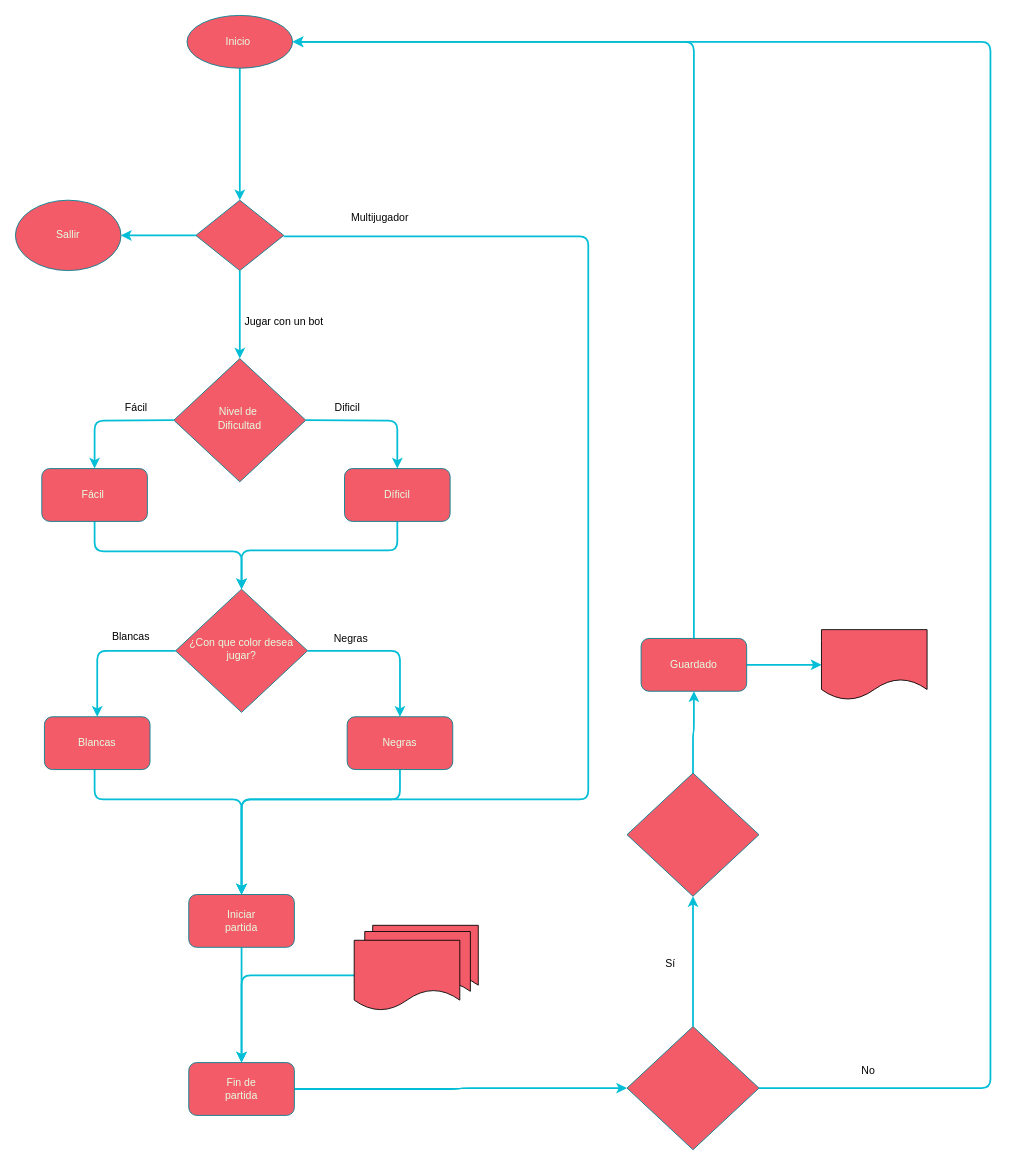
Image size: 1014x1165. Some labels were removed from this diagram. Each missing label, with the centre of its shape:
Fichero: the point at 874,664
Menú: the point at 239,235
Nombre: the point at 692,834
Sprites: the point at 406,975
¿Guardar puntuación?: the point at 692,1088
